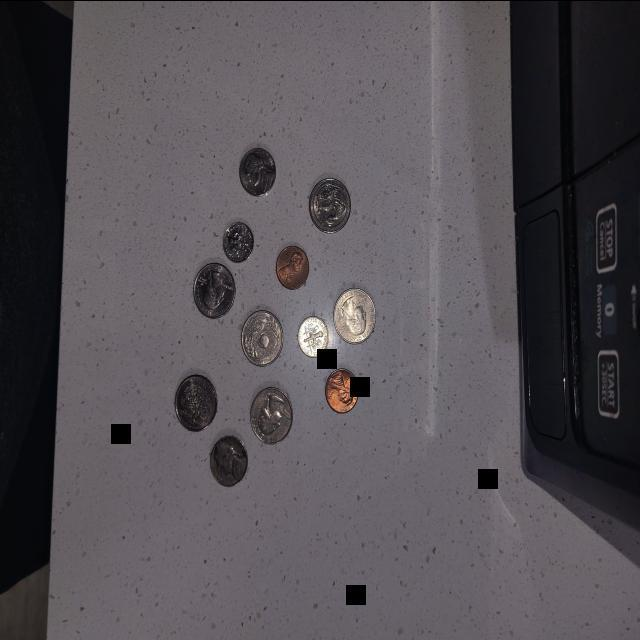Dime: (295, 314, 330, 361), (222, 220, 256, 264)
Nickel: (236, 147, 278, 201), (208, 434, 250, 486)
Penny: (272, 238, 312, 296), (322, 368, 362, 420)
Quarter: (248, 384, 294, 448), (193, 260, 240, 322), (240, 308, 286, 370), (308, 175, 354, 235), (174, 375, 219, 433), (334, 287, 378, 346)
